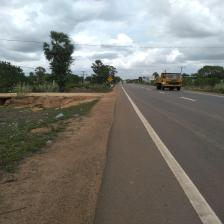yellowboard: (103, 73, 116, 84)
